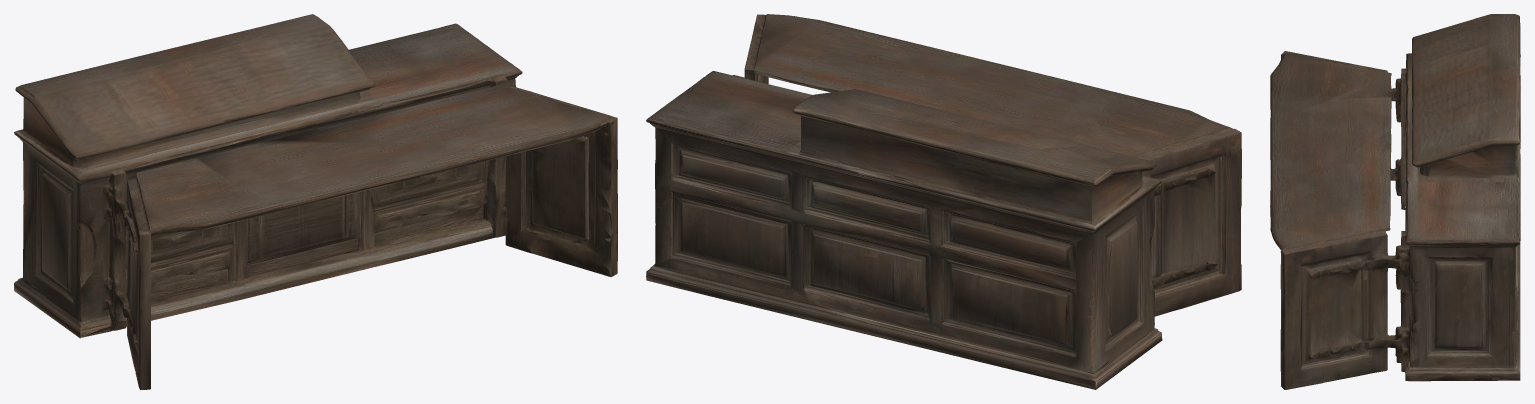
Rendered from customhouse-counter-gate.glb.
3 renders of one model, left to right at view 1: azimuth 30°, elevation 25°; view 2: azimuth 150°, elevation 25°; view 3: azimuth 270°, elevation 25°, orthographic. The views are drawn at different scales.
Visible parts, largest first — view 1: Mesh_0; view 2: Mesh_0; view 3: Mesh_0.
Part boxes in pixels (x1,y1,x2,y2): Mesh_0: [14, 14, 617, 389]; Mesh_0: [646, 14, 1241, 389]; Mesh_0: [1270, 14, 1520, 389].
Bounding box in the file's own units: 1.9 × 0.786 × 0.9877.
Materials: 1 (1 with a texture image).
